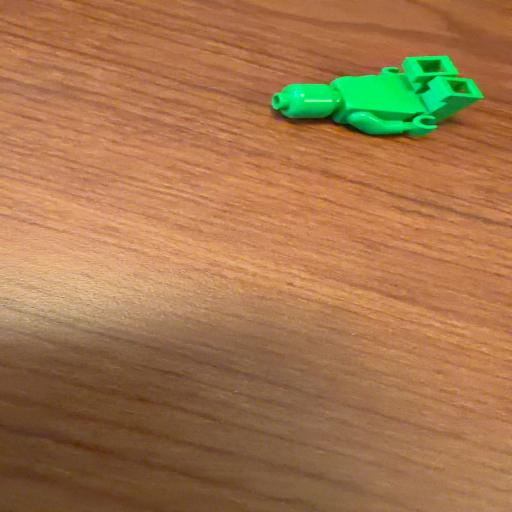UnoQ-minifig-detector: (272, 55, 484, 137)
